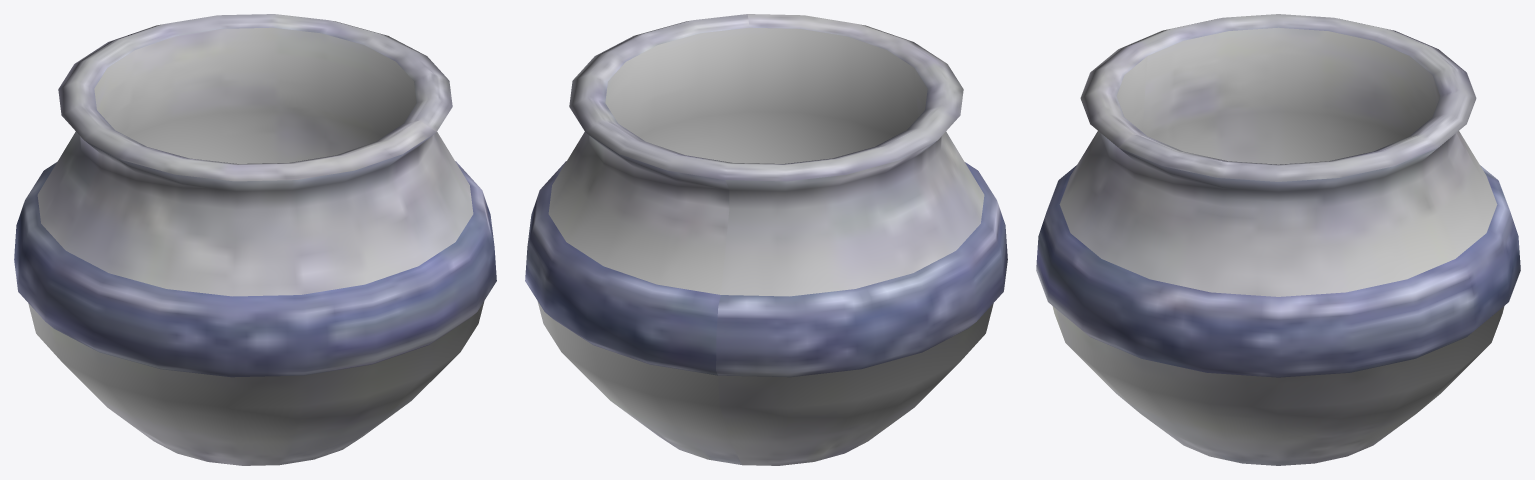
Rendered from prop-qp-vase-2.glb.
3 renders of one model, left to right at view 1: azimuth 30°, elevation 25°; view 2: azimuth 150°, elevation 25°; view 3: azimuth 270°, elevation 25°, orthographic.
Parts seen in each view (by area): view 1: Cylinder_015; view 2: Cylinder_015; view 3: Cylinder_015.
Boxes of the visible parts, x1,y1,x2,y2 form: Cylinder_015: [14, 14, 496, 465]; Cylinder_015: [525, 14, 1007, 465]; Cylinder_015: [1036, 14, 1520, 465].
Size of the model in its own units: 0.6947 by 0.5163 by 0.6947.
1 material, 1 textured.
